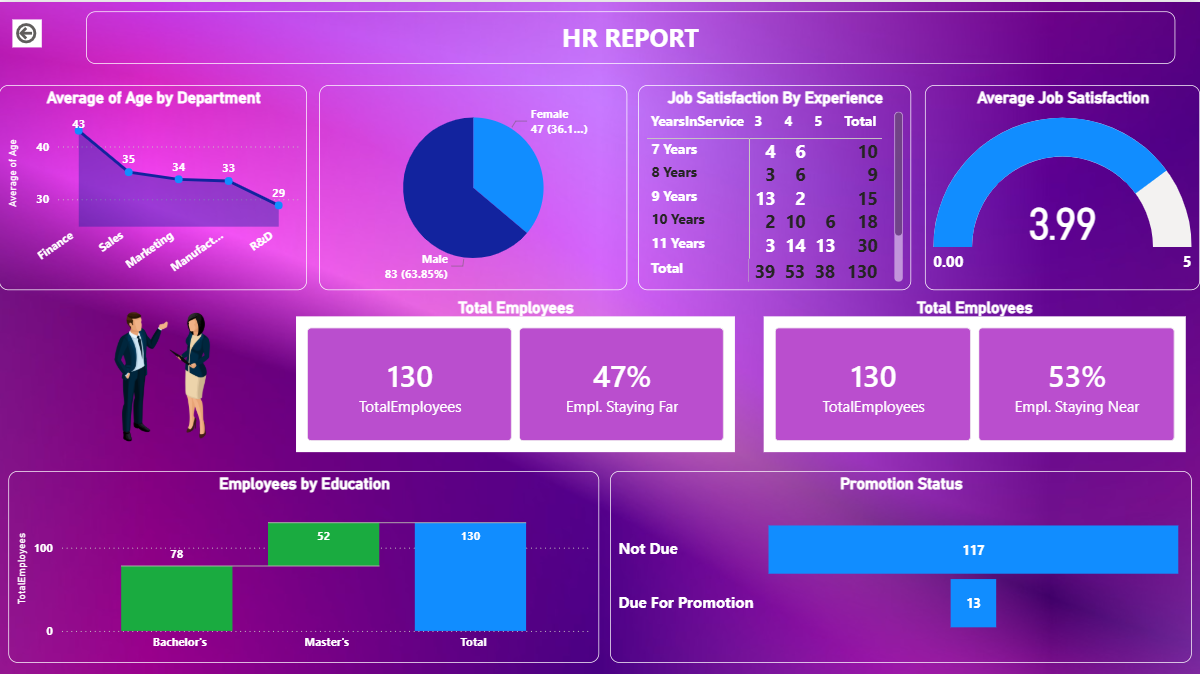

The page's visual inventory and layout, read from the dashboard file:
{"tool":"powerbi","page":{"name":"HR","canvas":[1280,720],"ordinal":1},"visuals":[{"type":"textbox","box":[93,10.3,1161.2,55.8],"z":0},{"type":"actionButton","box":[18.6,18.6,41.3,39.3],"z":1000},{"type":"areaChart","fields":{"Category":["HR.Department"],"Y":["Avg(HR.Age)"]},"box":[0,88.8,328.5,219],"z":2000},{"type":"pieChart","fields":{"Series":["HR.Gender"],"Y":["HR.TotalEmployees"]},"box":[340.9,88.8,328.5,219],"z":3000},{"type":"image","box":[14.5,324.4,326.4,150.8],"z":4000},{"type":"cardVisual","title":"Total Employees","fields":{"Data":["HR.TotalEmployees","HR.%DistanceFar"]},"box":[312,316.1,479.3,169.4],"z":5000},{"type":"cardVisual","title":"Total Employees","fields":{"Data":["HR.TotalEmployees","HR.%DistanceNear"]},"box":[809.9,316.1,460.7,169.4],"z":5001},{"type":"pivotTable","title":"Job Satisfaction By Experience","fields":{"Rows":["HR.YearsInService"],"Columns":["HR.JobSatisfation"],"Values":["HR.TotalEmployees"]},"box":[681.8,88.8,291.3,219],"z":5002},{"type":"gauge","title":"Average Job Satisfaction","fields":{"Y":["HR.AverageJobSatisfaction"],"MaxValue":["Max(HR.JobSatisfation)"]},"box":[987.6,88.8,293.4,219],"z":5003},{"type":"waterfallChart","title":"Employees by Education","fields":{"Category":["HR.Education"],"Y":["HR.TotalEmployees"]},"box":[10.3,500,630.2,204.5],"z":5004},{"type":"funnel","title":"Promotion Status","fields":{"Category":["HR.PromotionStatus"],"Y":["HR.TotalEmployees"]},"box":[650.8,500,619.8,204.5],"z":5005}]}

Visuals, with their boxes in screenshot pixels (x1, y1, x2, y2), scaled from the page's 1280x720 canvas onto the 1200x674 screenshot:
textbox: (left=87, top=10, right=1176, bottom=62)
actionButton: (left=17, top=17, right=56, bottom=54)
areaChart - HR.Department x Avg(HR.Age): (left=0, top=83, right=308, bottom=288)
pieChart - HR.Gender x HR.TotalEmployees: (left=320, top=83, right=628, bottom=288)
image: (left=14, top=304, right=320, bottom=445)
"Total Employees" cardVisual: (left=292, top=296, right=742, bottom=454)
"Total Employees" cardVisual: (left=759, top=296, right=1191, bottom=454)
"Job Satisfaction By Experience" pivotTable: (left=639, top=83, right=912, bottom=288)
"Average Job Satisfaction" gauge: (left=926, top=83, right=1199, bottom=288)
"Employees by Education" waterfallChart: (left=10, top=468, right=600, bottom=659)
"Promotion Status" funnel: (left=610, top=468, right=1191, bottom=659)
